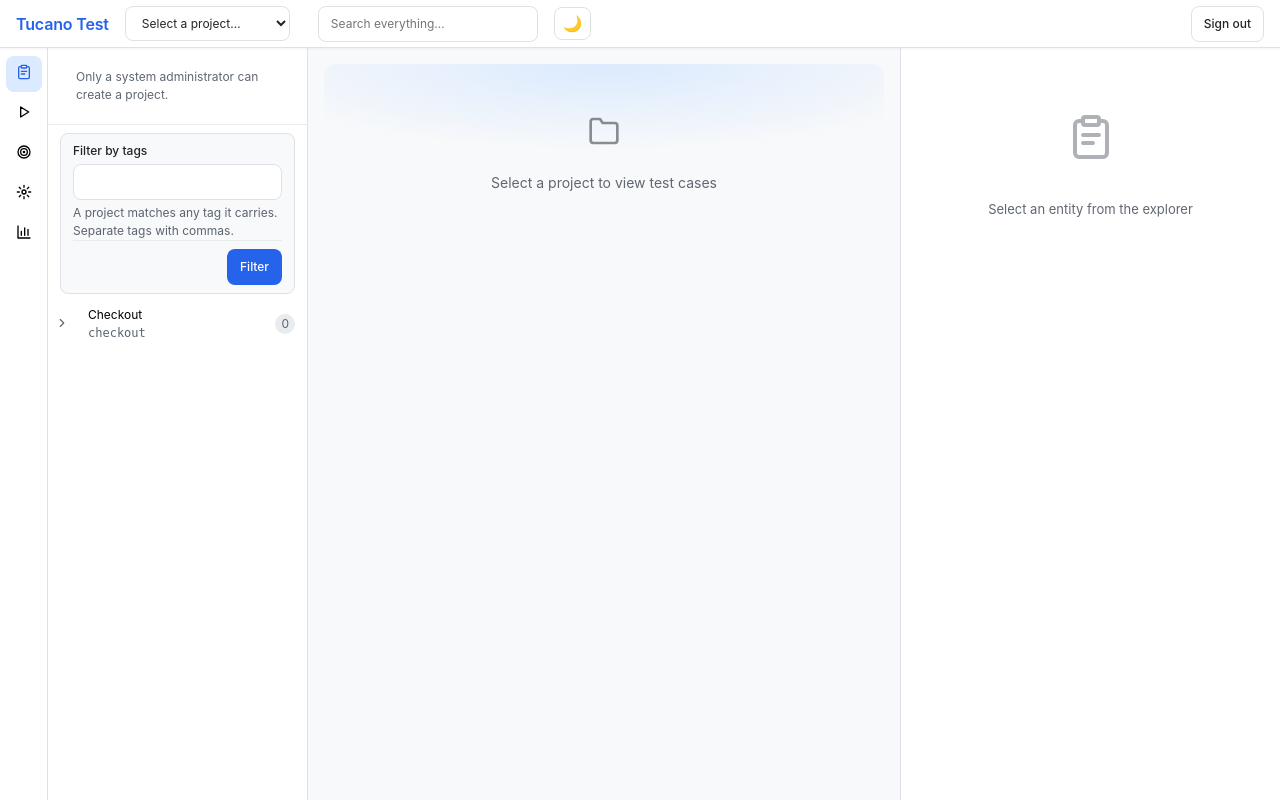
Test: AppShell › re-scopes the panes when the top bar picks a project
The width and height of the screenshot is (1280, 800).
Select "Checkout (checkout)" in the dropdown named "Active project" at [207, 24], box x1=125 y1=6 x2=290 y2=41
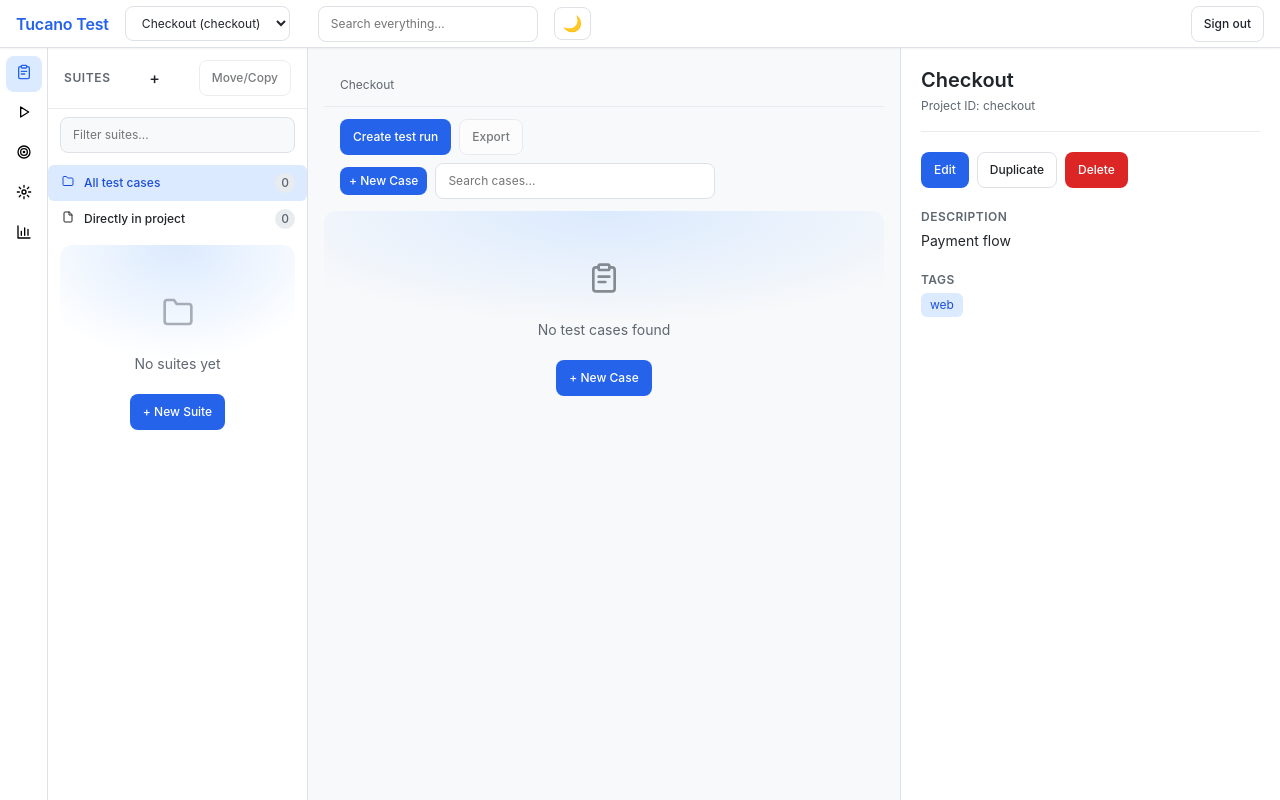
Check: the text "No test cases found" is shown, box x1=538 y1=319 x2=670 y2=340
Check: the text "Checkout" is shown, box x1=340 y1=76 x2=394 y2=94
